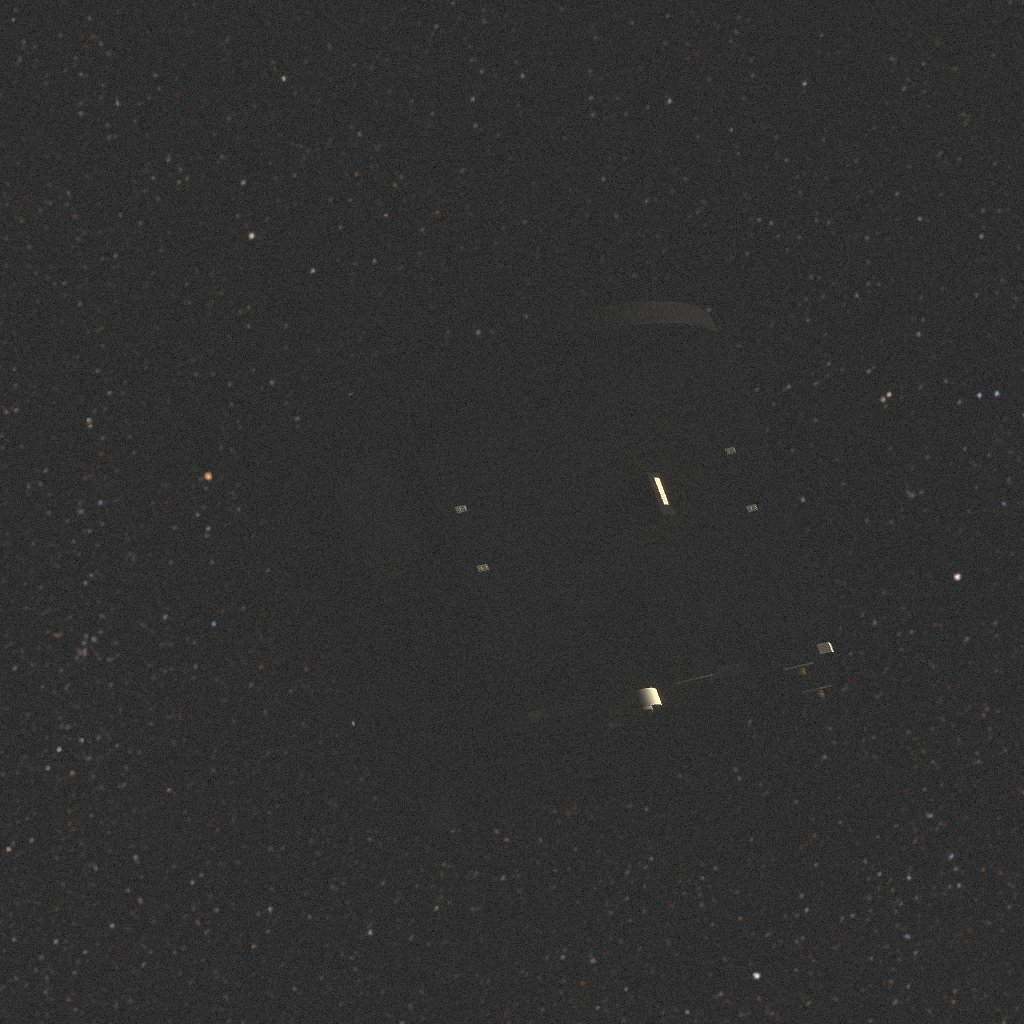proba_3_ocs: (256, 301, 841, 836)
